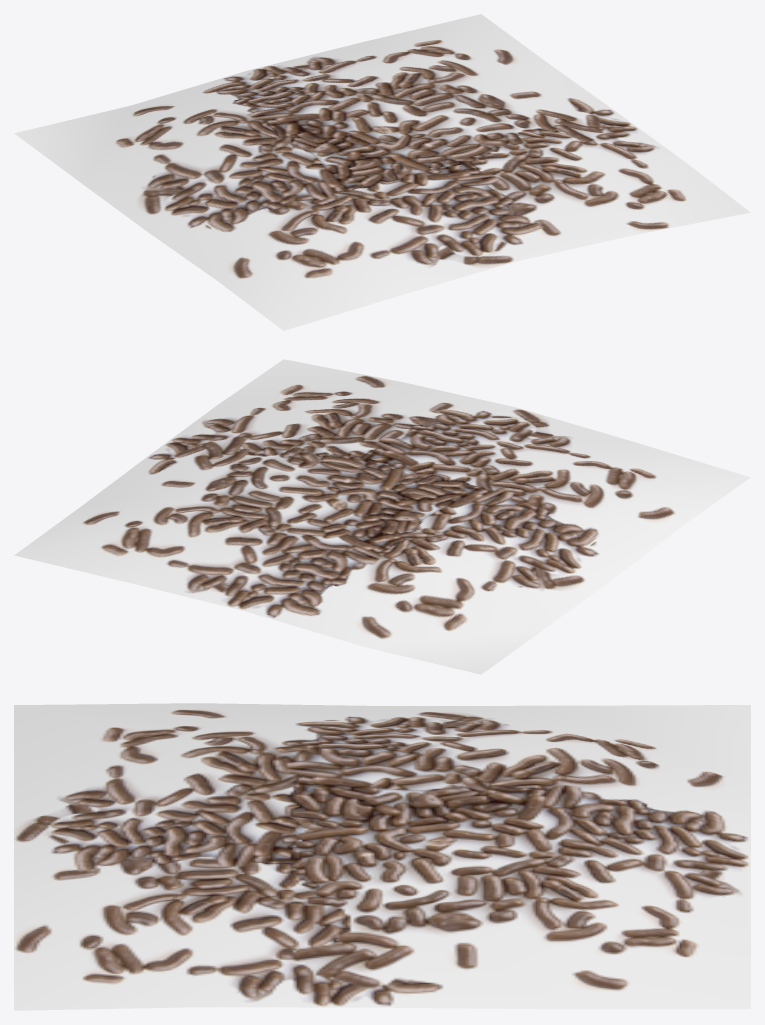
File: Jumper-Target.FBX
The picture shows the model from 3 angles, top to bottom: view 1: azimuth 30°, elevation 25°; view 2: azimuth 150°, elevation 25°; view 3: azimuth 270°, elevation 25°; orthographic projection. The views are drawn at different scales.
Visible parts, largest first — view 1: Jumper-Target; view 2: Jumper-Target; view 3: Jumper-Target.
Part boxes in pixels (x1,y1,x2,y2): Jumper-Target: [14, 14, 750, 330]; Jumper-Target: [14, 359, 750, 674]; Jumper-Target: [14, 703, 750, 1010].
Size of the model in its own units: 30 by 1.53 by 30.
